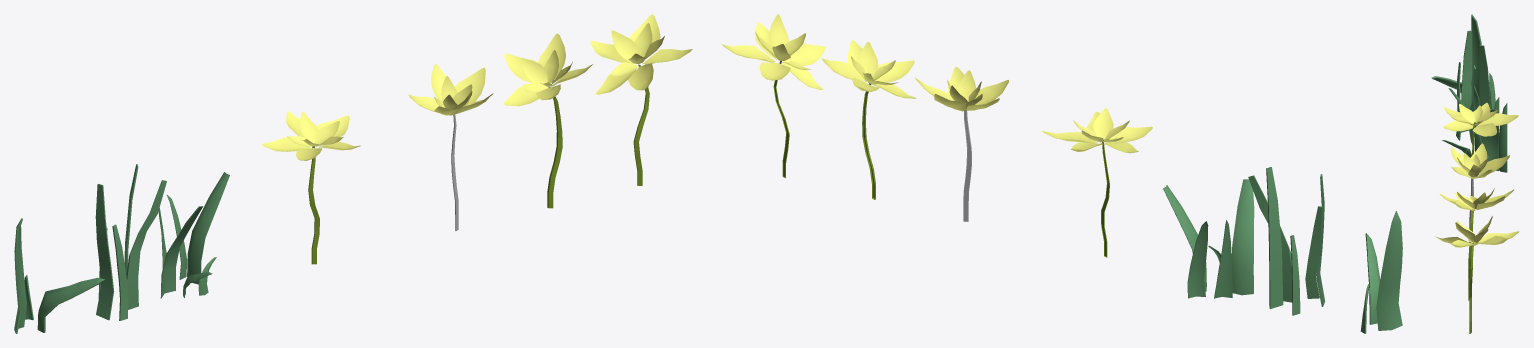
Rendered from Vegetation.fbx.
The picture shows the model from 3 angles, left to right: view 1: azimuth 30°, elevation 25°; view 2: azimuth 150°, elevation 25°; view 3: azimuth 270°, elevation 25°; orthographic projection. The views are drawn at different scales.
Parts seen in each view (by area): view 1: Grass_v2, Flower_v4, Flower_v3, Grass_v1, Flower_v1, Flower_v2, Grass_v3; view 2: Grass_v1, Grass_v2, Flower_v4, Grass_v3, Flower_v3, Flower_v2, Flower_v1; view 3: Grass_v2, Flower_v1, Grass_v1, Flower_v2, Flower_v4, Grass_v3, Flower_v3.
Part boxes in pixels (x1=…): Grass_v2: x1=95, y1=164, x2=166, y2=320; Flower_v4: x1=590, y1=14, x2=692, y2=185; Flower_v3: x1=503, y1=33, x2=592, y2=208; Grass_v1: x1=158, y1=172, x2=229, y2=298; Flower_v1: x1=261, y1=111, x2=360, y2=264; Flower_v2: x1=408, y1=64, x2=493, y2=230; Grass_v3: x1=14, y1=218, x2=105, y2=333; Grass_v1: x1=1163, y1=179, x2=1254, y2=298; Grass_v2: x1=1248, y1=167, x2=1325, y2=315; Flower_v4: x1=721, y1=14, x2=825, y2=178; Grass_v3: x1=1360, y1=211, x2=1402, y2=333; Flower_v3: x1=822, y1=40, x2=916, y2=199; Flower_v2: x1=915, y1=66, x2=1008, y2=221; Flower_v1: x1=1042, y1=108, x2=1152, y2=257; Grass_v2: x1=1456, y1=30, x2=1491, y2=145; Flower_v1: x1=1443, y1=102, x2=1518, y2=196; Grass_v1: x1=1442, y1=88, x2=1507, y2=172; Flower_v2: x1=1450, y1=143, x2=1509, y2=229; Flower_v4: x1=1435, y1=216, x2=1519, y2=333; Grass_v3: x1=1431, y1=14, x2=1495, y2=110; Flower_v3: x1=1439, y1=188, x2=1514, y2=300.
Size of the model in its own units: 9.47 by 2.11 by 1.43.
